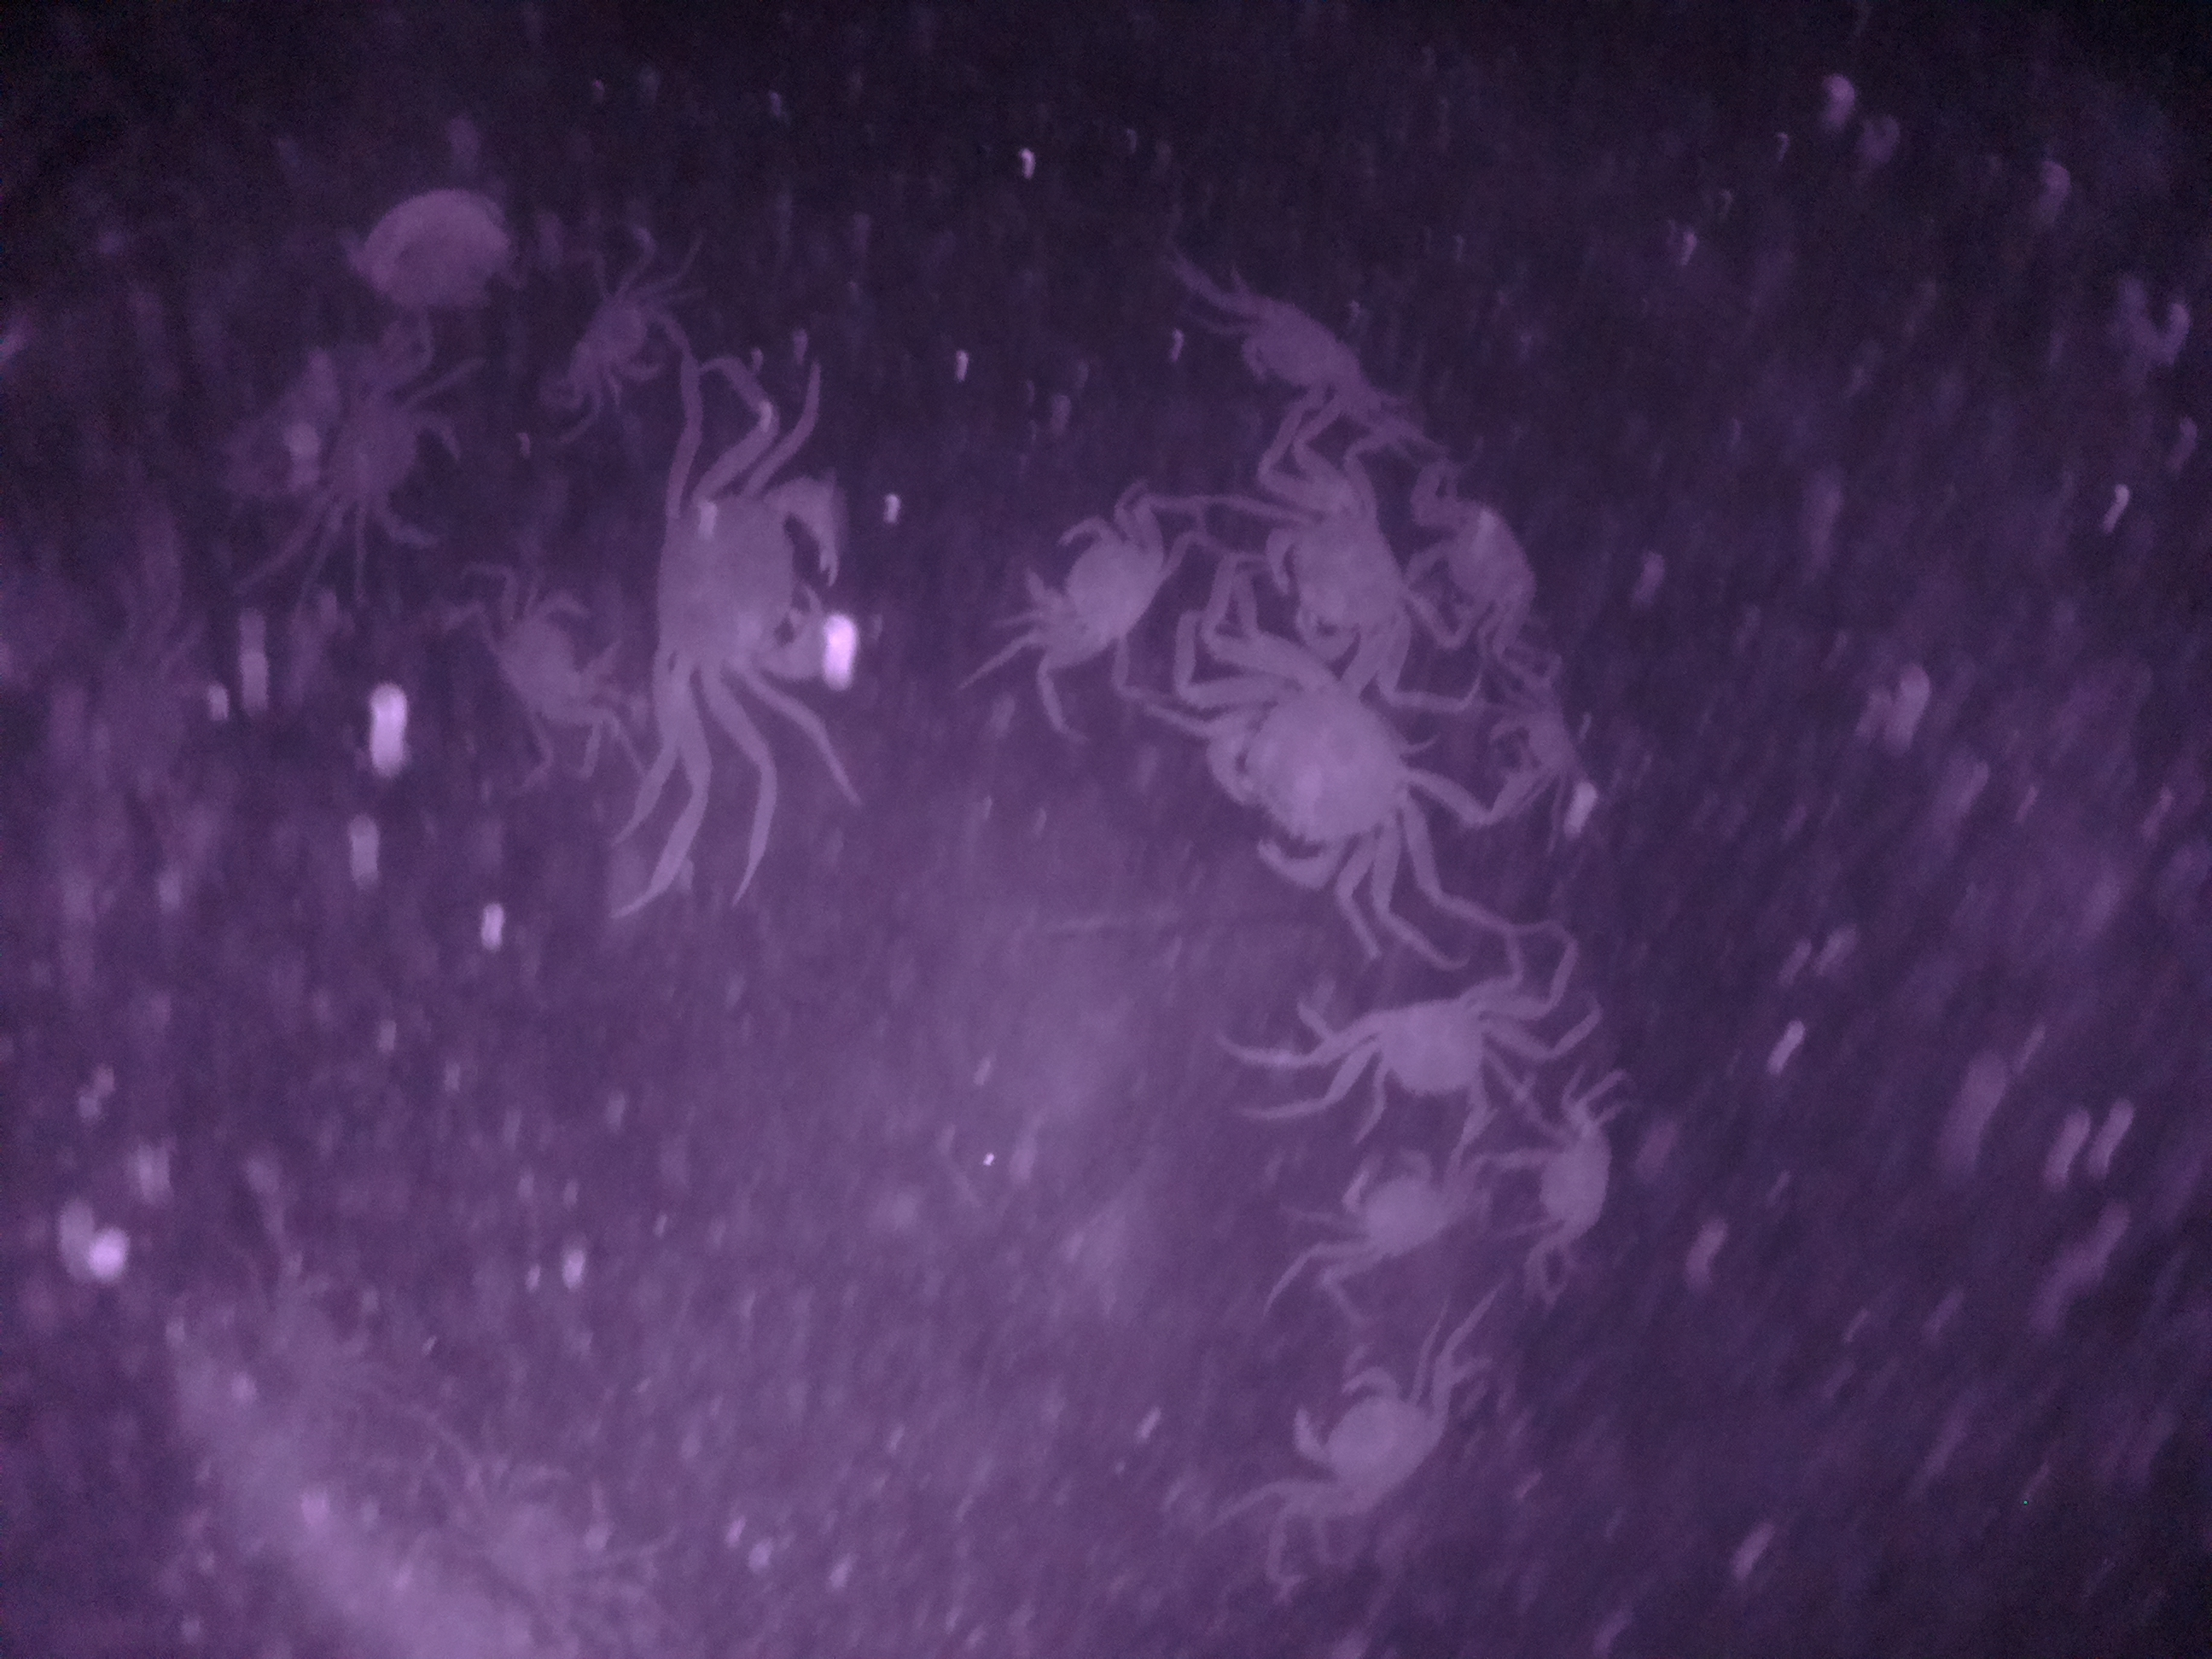Crab: (620, 448, 876, 728), (1202, 636, 1416, 890), (1296, 978, 1527, 1136), (1393, 484, 1592, 647), (1291, 1359, 1468, 1539), (1212, 275, 1393, 436), (1029, 481, 1181, 666), (1329, 1134, 1465, 1279)
